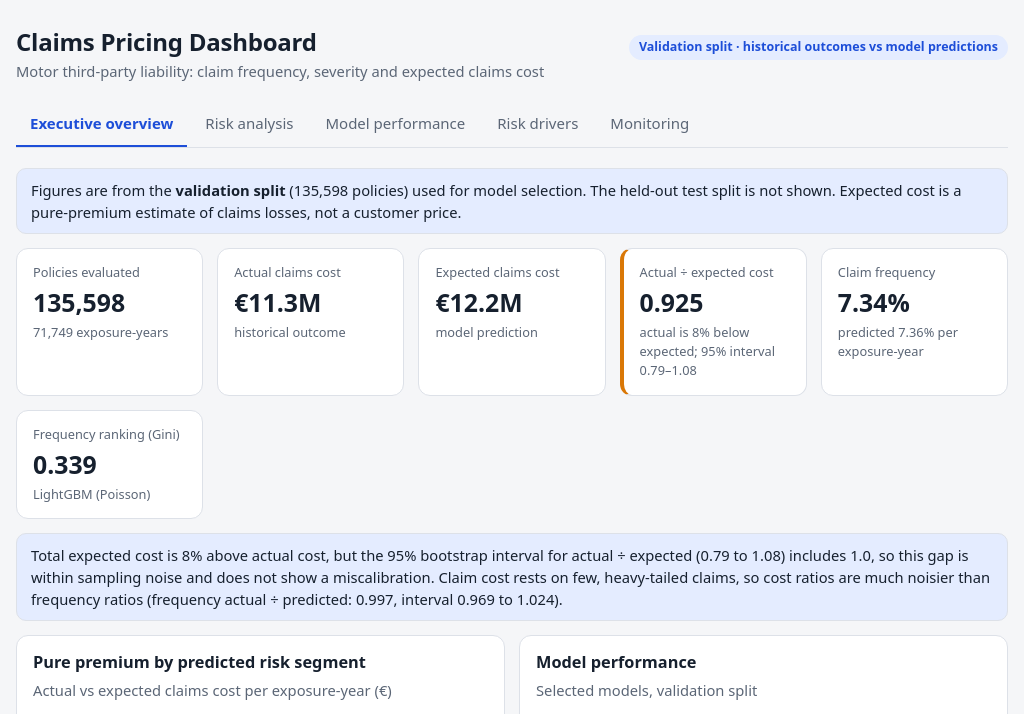
Test: Risk analysis page › states that differences are associations
This screenshot has width=1024, height=714.
Expected: the text "Policies evaluated" is shown, [33, 263, 140, 281]
Click the tab "Risk analysis" at (249, 124), box [191, 102, 308, 147]
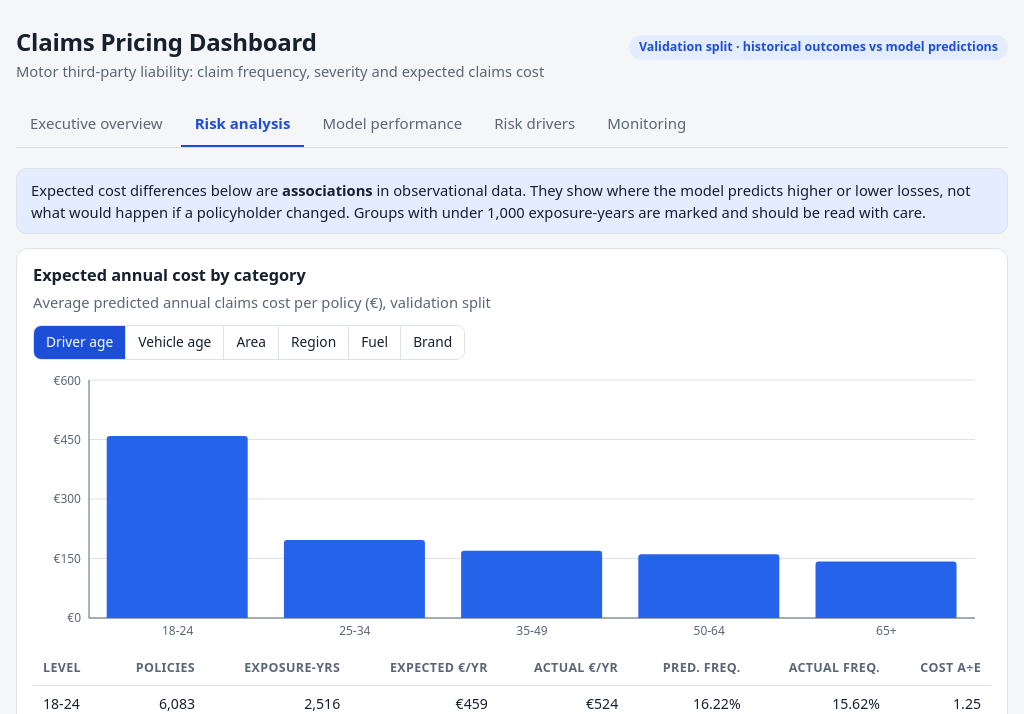
Expected: the text "associations" is shown, [282, 180, 373, 200]
